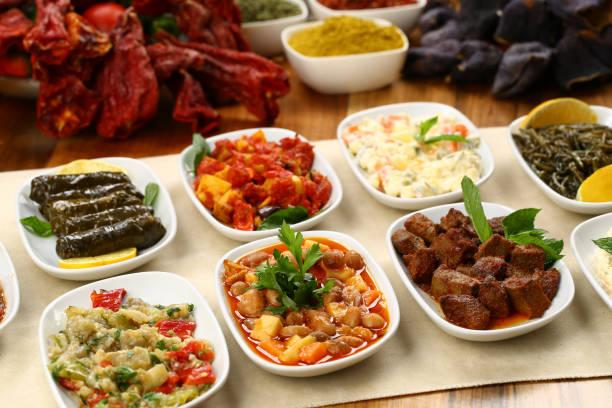Braised Crucian Carp: (214, 231, 396, 378), (386, 201, 571, 342), (40, 272, 229, 408), (18, 155, 177, 279), (178, 128, 336, 242), (337, 101, 491, 210), (506, 104, 609, 215)
